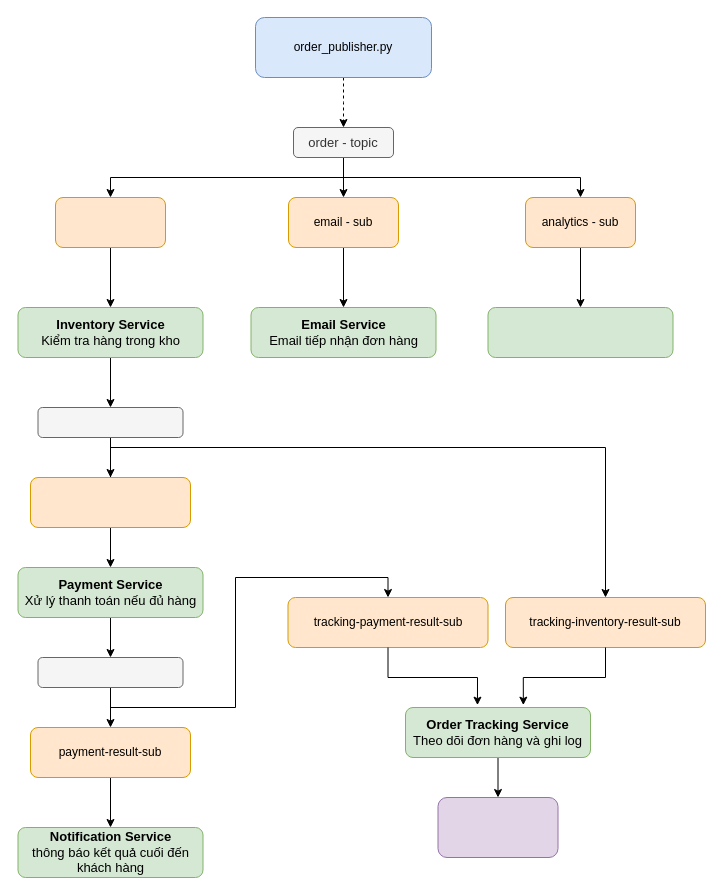
The diagram is 723 pixels wide and 895 high, and some of its shapes have lost their labels. The shapes that lost their labels are listed below. From the top down, each one's centre as x and y in pixels, then its label:
At [110,222]: "inventory - sub".
At [580,332]: "Analytics Service Phân loại giá trị đơn hàng".
At [110,422]: "inventory - result - topic".
At [110,502]: "inventory-result-sub".
At [110,672]: "payment - result - topic".
At [497,827]: "order_tracking.log lưu log".
